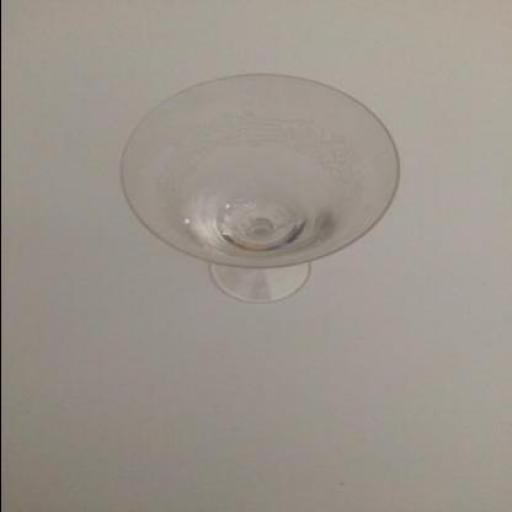glass: (124, 75, 400, 302)
